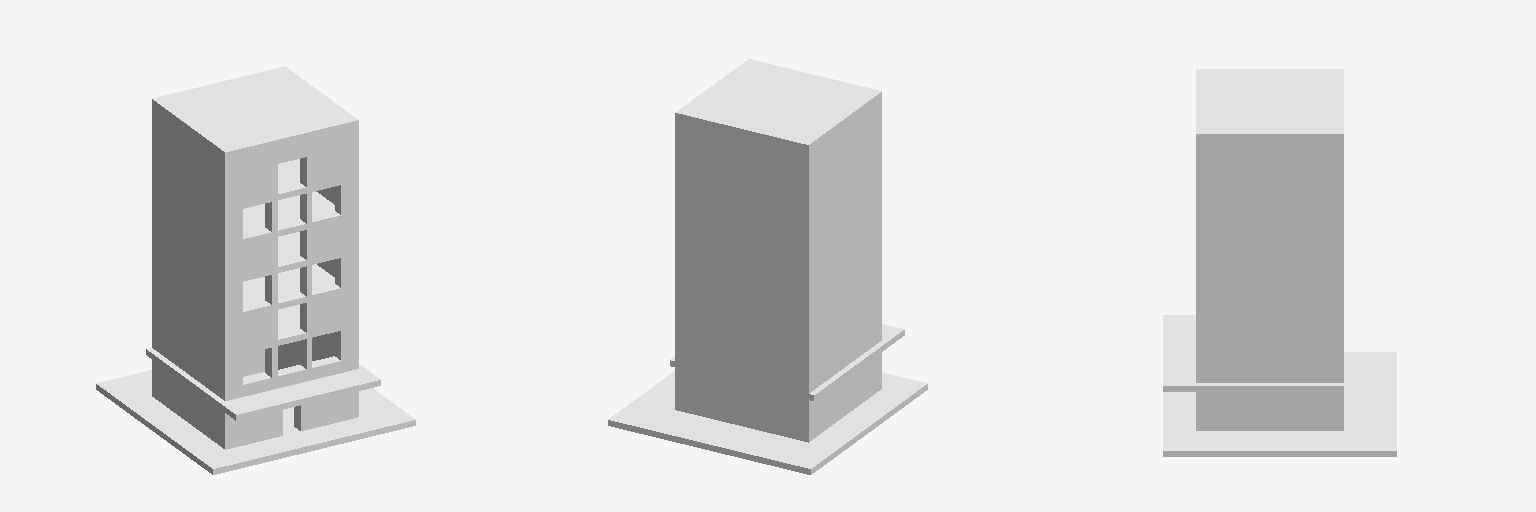
File: bill_C.obj
3 views of the same model, side by side, from view 1: azimuth 30°, elevation 25°; view 2: azimuth 150°, elevation 25°; view 3: azimuth 270°, elevation 25° (orthographic).
Bounding box in the file's own units: 35 × 50 × 35.